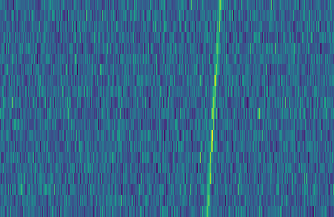signal: (203, 0, 225, 217)
